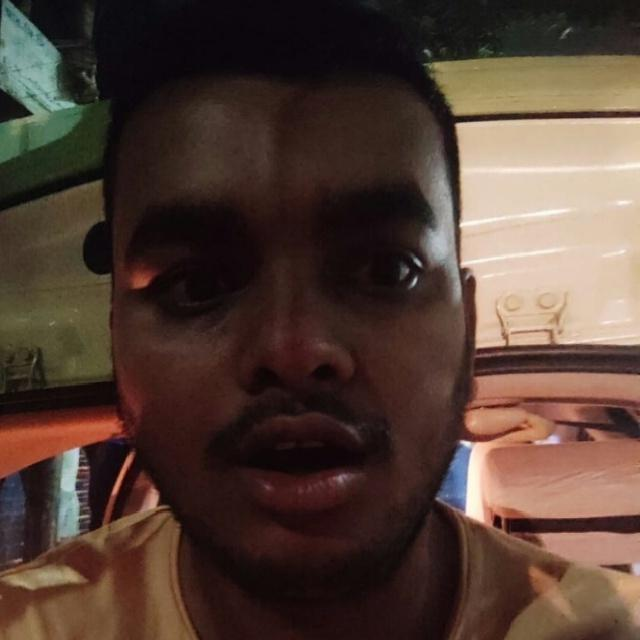surprised: (56, 132, 546, 560)
